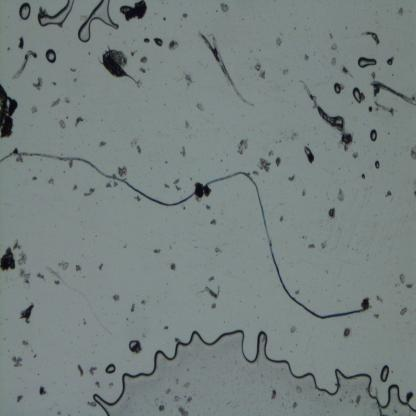Air bubble: (90, 328, 416, 415), (78, 0, 119, 43), (37, 0, 74, 27), (357, 56, 380, 69), (19, 2, 31, 20), (380, 365, 390, 382), (45, 48, 56, 63), (104, 363, 116, 375), (352, 87, 360, 104), (333, 81, 341, 95), (128, 342, 140, 350), (370, 130, 377, 142), (374, 159, 380, 171), (386, 58, 394, 66)
Background material: (100, 43, 142, 88), (0, 84, 20, 144), (120, 1, 148, 22), (0, 245, 17, 272), (18, 302, 34, 325), (13, 241, 27, 267), (360, 30, 380, 48), (194, 182, 212, 199), (340, 131, 356, 150), (18, 268, 32, 289), (256, 157, 271, 175), (303, 146, 315, 166), (183, 72, 194, 92), (131, 136, 142, 155), (237, 137, 248, 155), (334, 186, 346, 202), (82, 186, 96, 199), (10, 355, 23, 369), (49, 96, 61, 109), (58, 260, 70, 273), (218, 2, 231, 14), (32, 76, 43, 90), (327, 205, 336, 222), (116, 165, 128, 177), (342, 326, 352, 340), (360, 296, 370, 310), (340, 64, 351, 76), (37, 383, 48, 395), (167, 41, 179, 52), (29, 102, 39, 115), (257, 64, 265, 80), (173, 177, 182, 191), (178, 406, 190, 416), (153, 36, 163, 48), (276, 212, 286, 224), (17, 35, 24, 52), (178, 145, 186, 159), (74, 116, 84, 127), (159, 178, 169, 189), (399, 306, 408, 318), (185, 393, 193, 406), (57, 118, 67, 128), (132, 194, 142, 204), (111, 294, 121, 304), (36, 272, 47, 281), (384, 189, 393, 200), (201, 202, 213, 210), (129, 301, 136, 314), (77, 364, 84, 377), (153, 246, 163, 255), (288, 174, 297, 184), (214, 245, 223, 255), (330, 41, 338, 52), (399, 274, 407, 285), (397, 7, 405, 18), (170, 262, 178, 273), (410, 146, 416, 160), (104, 181, 113, 190), (22, 338, 30, 348), (180, 12, 190, 20), (98, 140, 108, 148), (47, 176, 55, 186), (16, 154, 24, 164), (52, 277, 60, 287), (270, 388, 276, 401), (321, 239, 328, 250), (158, 403, 166, 412), (274, 38, 282, 47), (376, 295, 384, 304), (196, 103, 205, 111), (274, 157, 282, 166), (140, 55, 148, 64), (142, 36, 151, 44), (16, 394, 23, 404), (90, 365, 96, 376), (330, 58, 337, 67), (75, 263, 82, 272), (352, 150, 359, 159), (184, 119, 190, 129), (94, 380, 100, 390), (68, 159, 74, 169), (301, 186, 306, 198), (356, 394, 361, 406), (209, 219, 217, 226), (139, 66, 146, 74), (307, 243, 316, 249), (405, 282, 414, 288), (64, 97, 70, 105), (72, 184, 78, 192), (113, 180, 119, 188), (70, 68, 77, 74), (32, 175, 38, 182), (99, 263, 104, 271)
Cellulose filter fibre: (196, 32, 255, 108), (48, 266, 112, 335), (299, 81, 345, 135), (371, 80, 416, 112), (12, 48, 38, 81), (203, 284, 220, 299)
Cotton: (0, 144, 373, 319)
